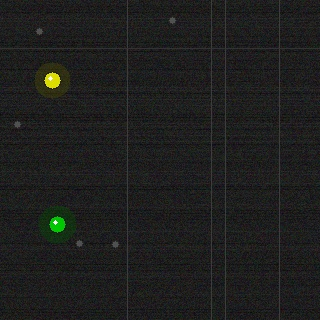green_normal: (47, 214, 67, 234)
yellow_warning: (42, 70, 62, 90)
